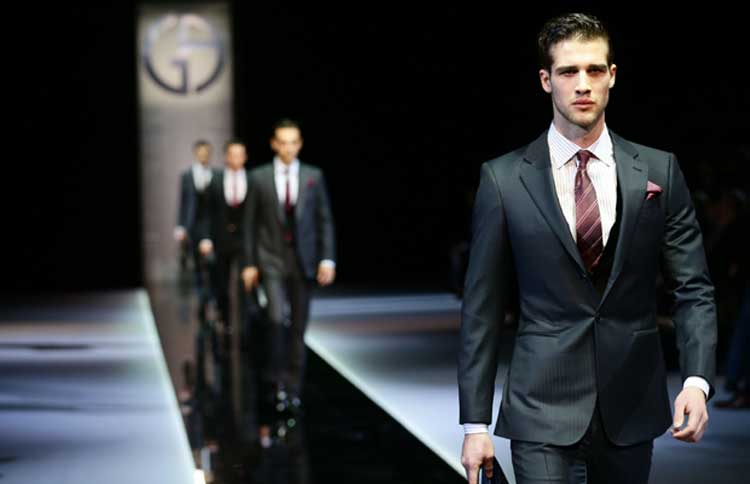feet: (260, 362, 312, 421)
